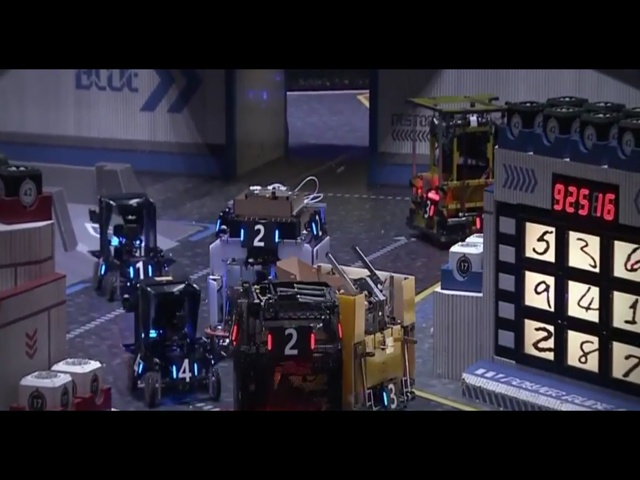bluePlate: (238, 221, 281, 251), (168, 353, 200, 386), (380, 376, 402, 409), (126, 259, 156, 282), (308, 210, 325, 240), (129, 348, 144, 380), (93, 254, 106, 279)
redPlate: (265, 326, 316, 359), (419, 195, 435, 222)
